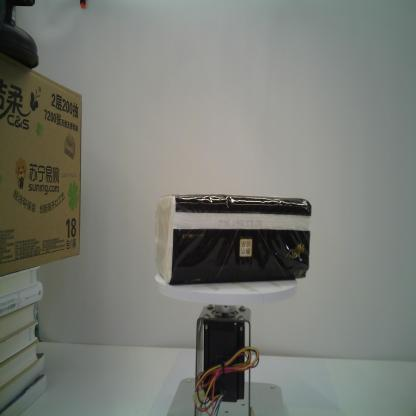Tissue: (152, 192, 314, 287)
